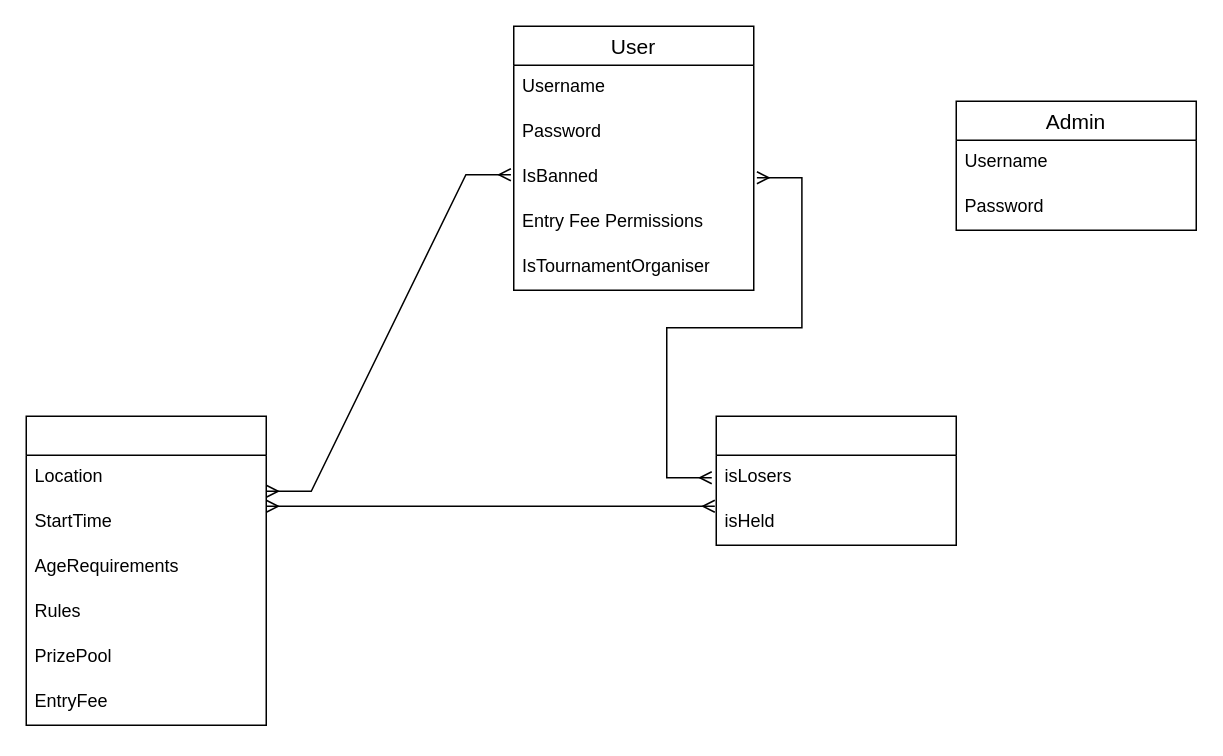
The diagram is 1223 pixels wide and 756 high, and some of its shapes have lost their labels. Each missing label, with the box of its shape:
Match: (715, 415, 956, 545)
Tournament: (25, 415, 266, 725)
